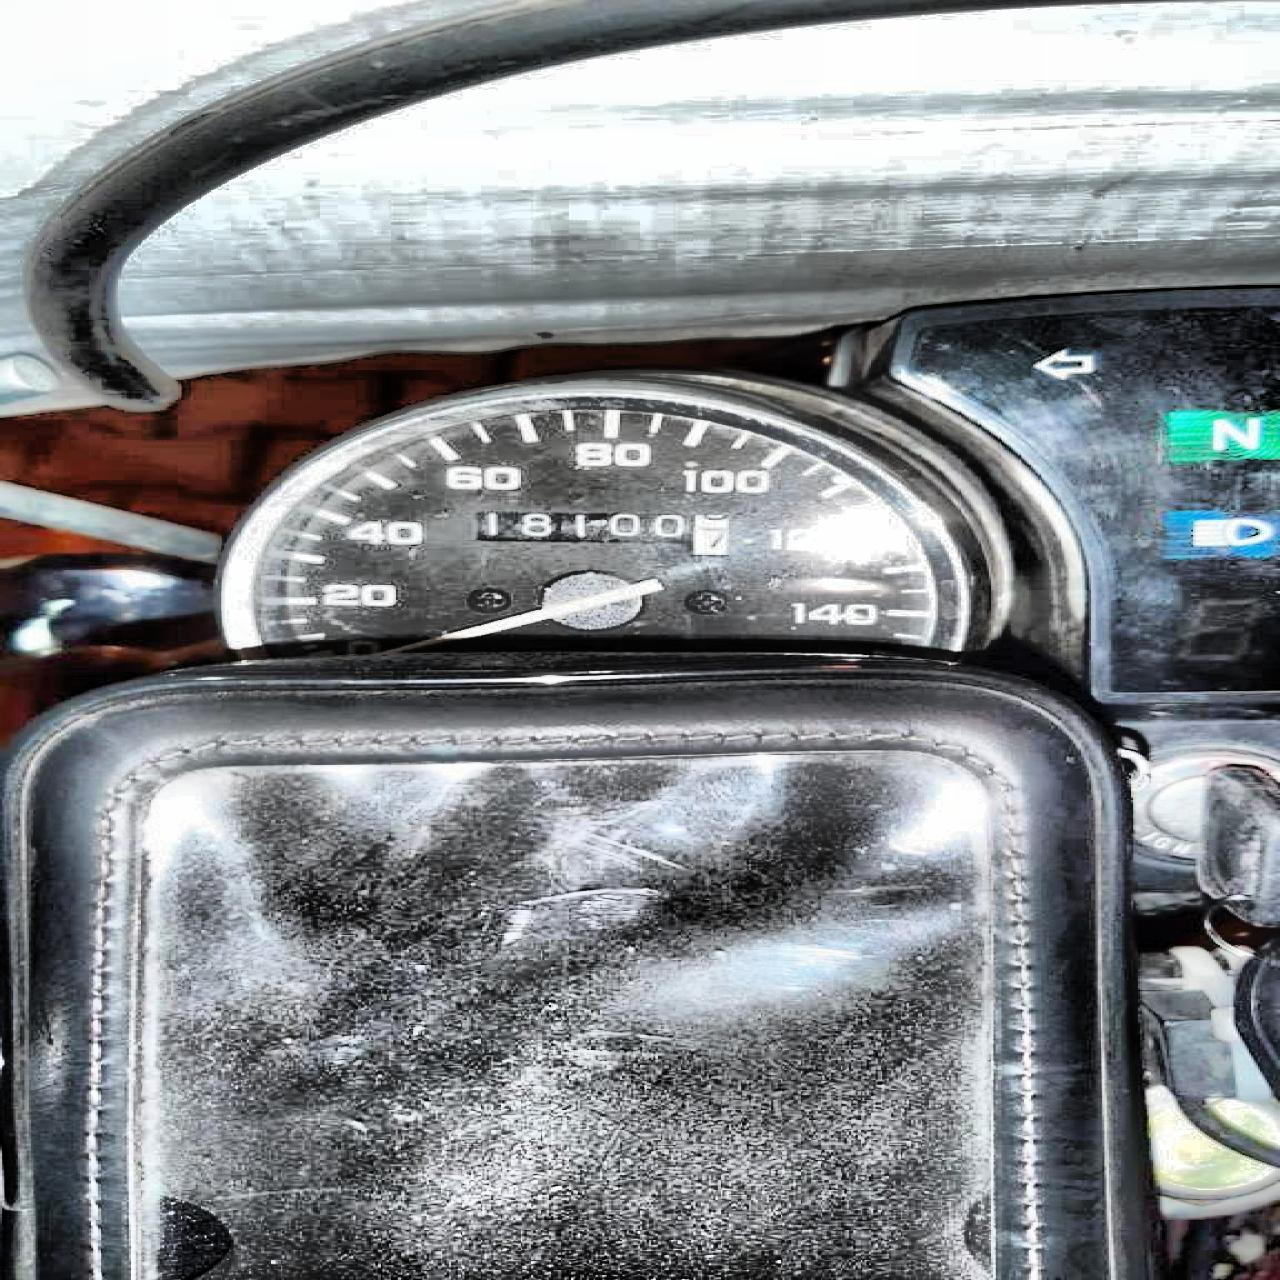0: (602, 510, 640, 538), (647, 511, 685, 538)
1: (565, 511, 591, 539), (478, 510, 502, 538)
7: (693, 523, 729, 550)
8: (516, 511, 556, 538)
odometer: (464, 508, 735, 558)
